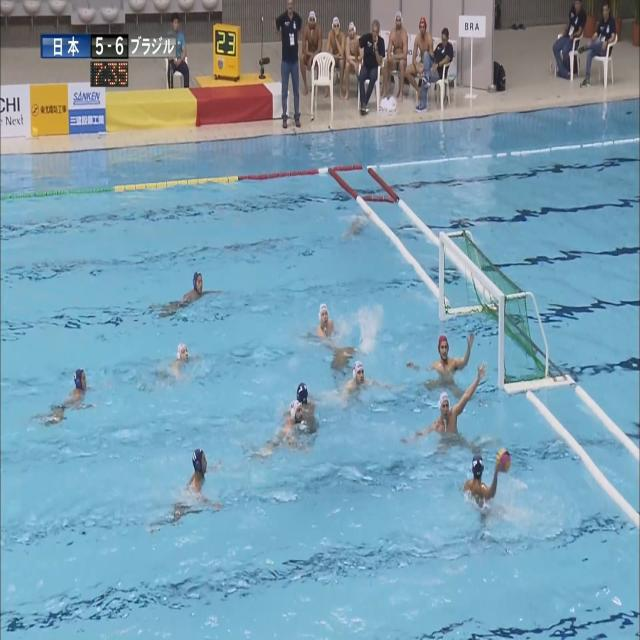ball: (497, 448, 510, 472)
